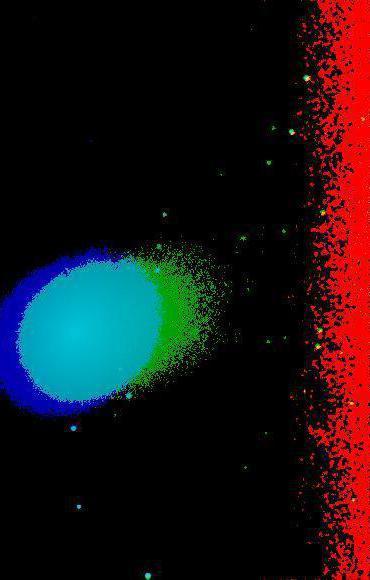star: (131, 363, 161, 393)
